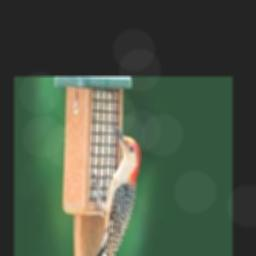Woodpecker: (84, 124, 140, 256)
